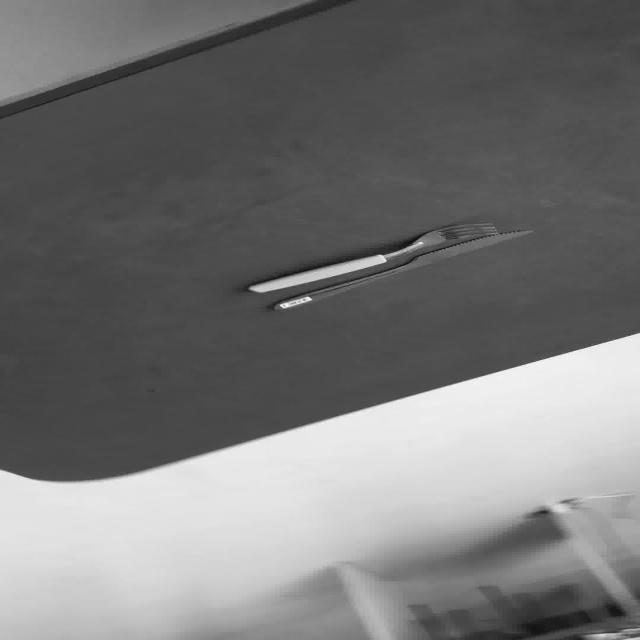fork: (244, 220, 497, 294)
knife fork: (269, 226, 532, 311)
